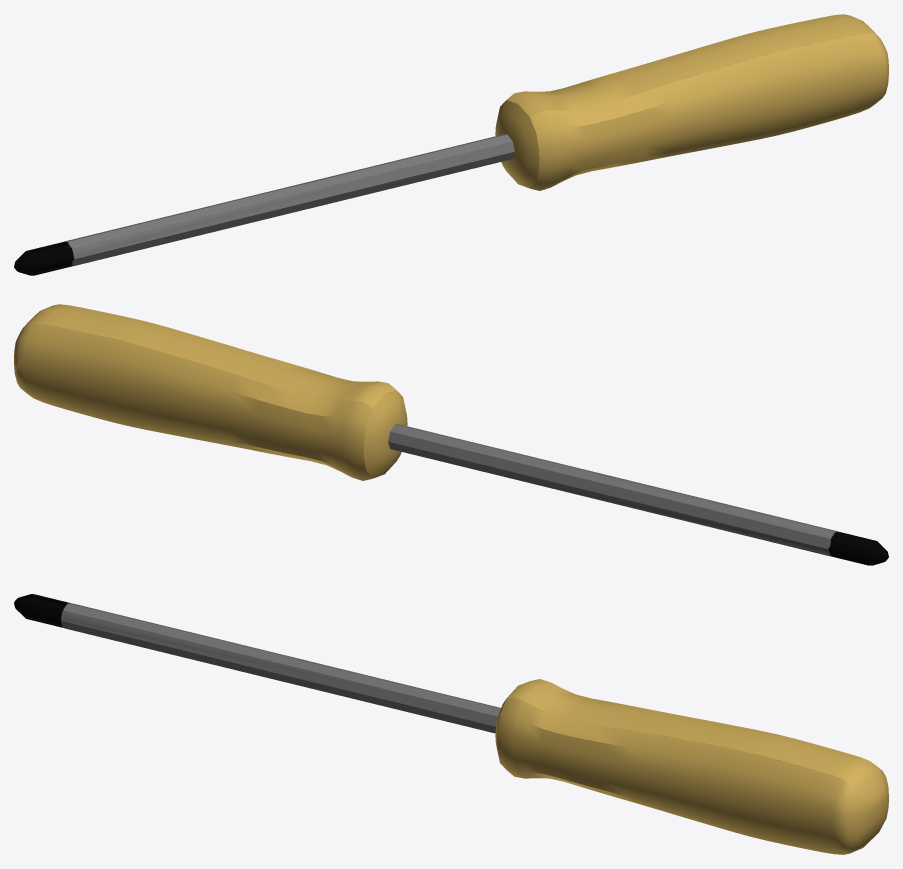
File: Screwdriver.fbx
3 views of the same model, one above another, from view 1: azimuth 30°, elevation 25°; view 2: azimuth 150°, elevation 25°; view 3: azimuth 330°, elevation 25° (orthographic).
Visible parts, largest first — view 1: 立方體, 圓柱體; view 2: 立方體, 圓柱體; view 3: 立方體, 圓柱體.
Part boxes in pixels (bbox=[...]): 立方體: bbox=[495, 14, 888, 190]; 圓柱體: bbox=[14, 134, 514, 275]; 立方體: bbox=[14, 304, 407, 480]; 圓柱體: bbox=[388, 424, 888, 565]; 立方體: bbox=[495, 679, 888, 854]; 圓柱體: bbox=[14, 594, 500, 733].
Size of the model in its own units: 489 by 50.84 by 46.67.
